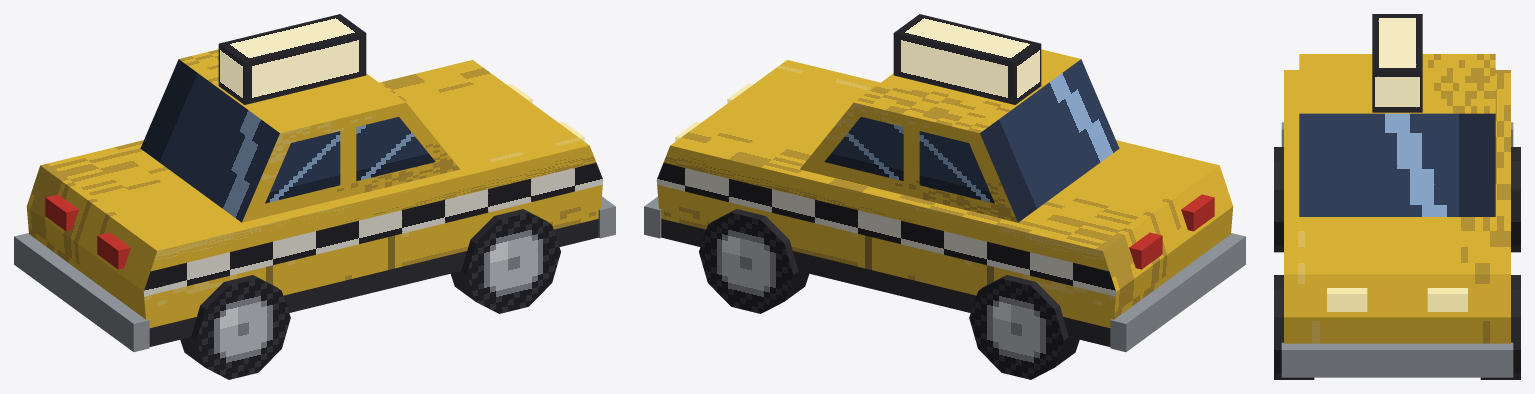
File: moreA-taxi.glb
3 renders of one model, left to right at view 1: azimuth 30°, elevation 25°; view 2: azimuth 150°, elevation 25°; view 3: azimuth 270°, elevation 25°, orthographic. The views are drawn at different scales.
Visible parts, largest first — view 1: moreA.taxi; view 2: moreA.taxi; view 3: moreA.taxi.
Part boxes in pixels (x1,y1,x2,y2): moreA.taxi: (14,14,615,379); moreA.taxi: (644,14,1245,379); moreA.taxi: (1274,14,1520,379).
Bounding box in the file's own units: 1.76 × 0.9185 × 0.8039.
Materials: 11 (6 with a texture image).
